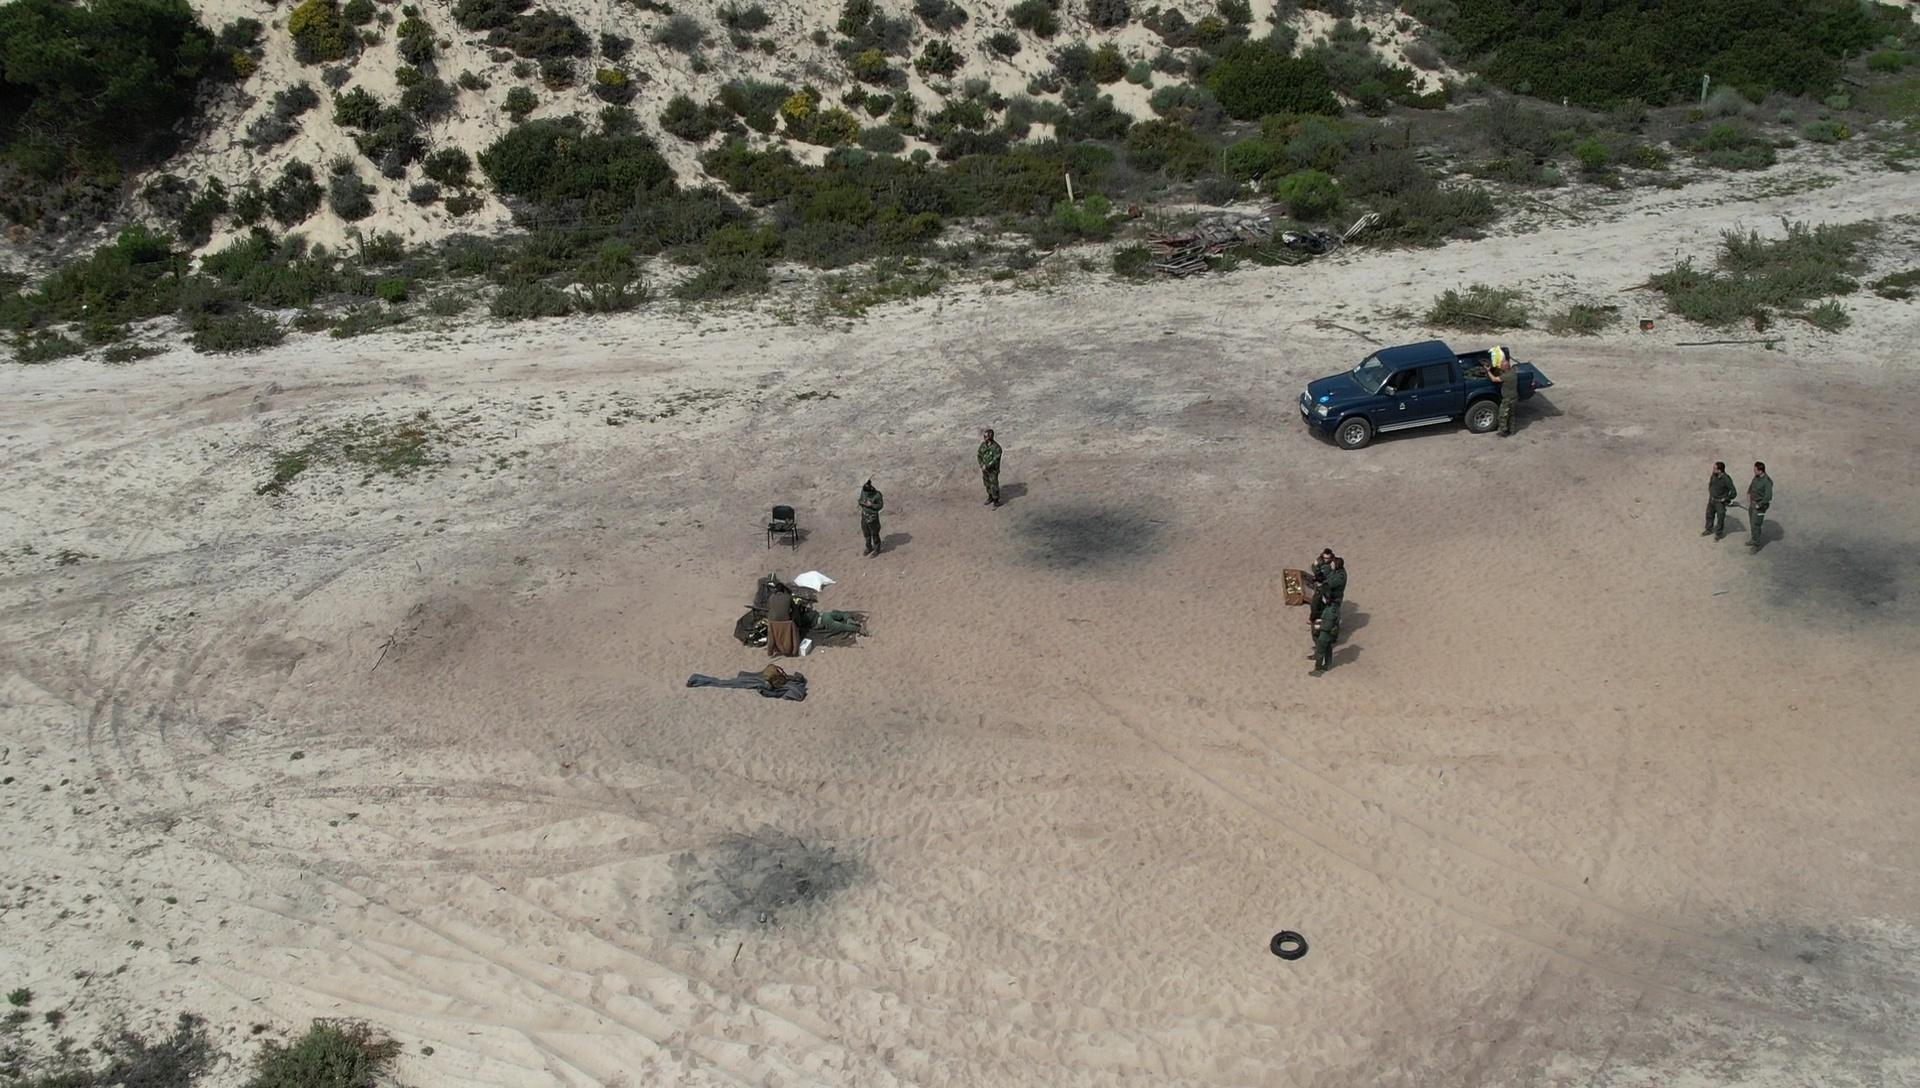Soldier: (967, 413, 1030, 528), (1477, 349, 1538, 448), (1741, 444, 1788, 568), (847, 472, 905, 571), (779, 595, 872, 648), (1308, 567, 1356, 661), (1702, 455, 1745, 553), (761, 578, 800, 629), (1338, 513, 1374, 564)
